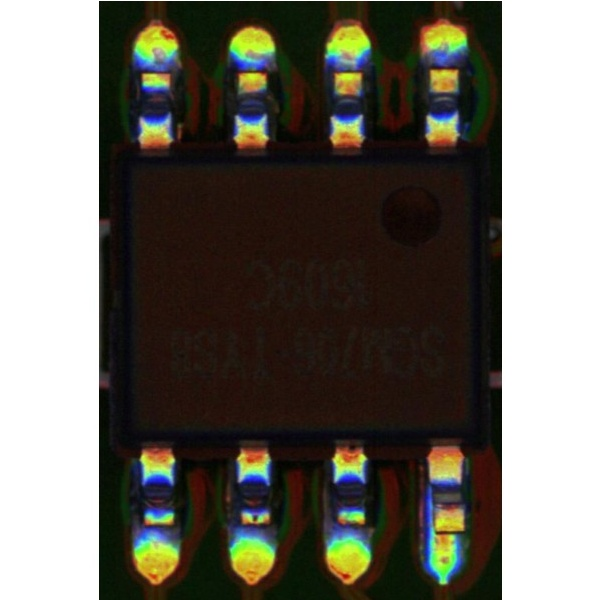Bad_podu: (435, 523, 454, 541)
Bad_qiaojiao: (425, 481, 433, 531)
